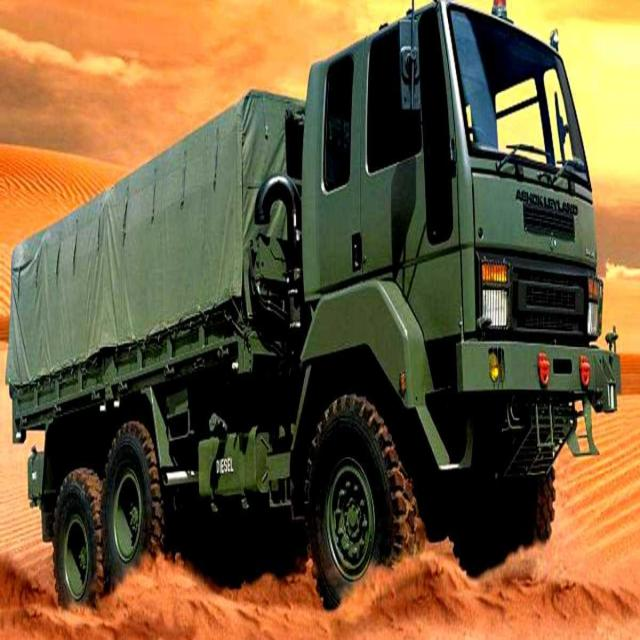truck: (6, 2, 620, 606)
